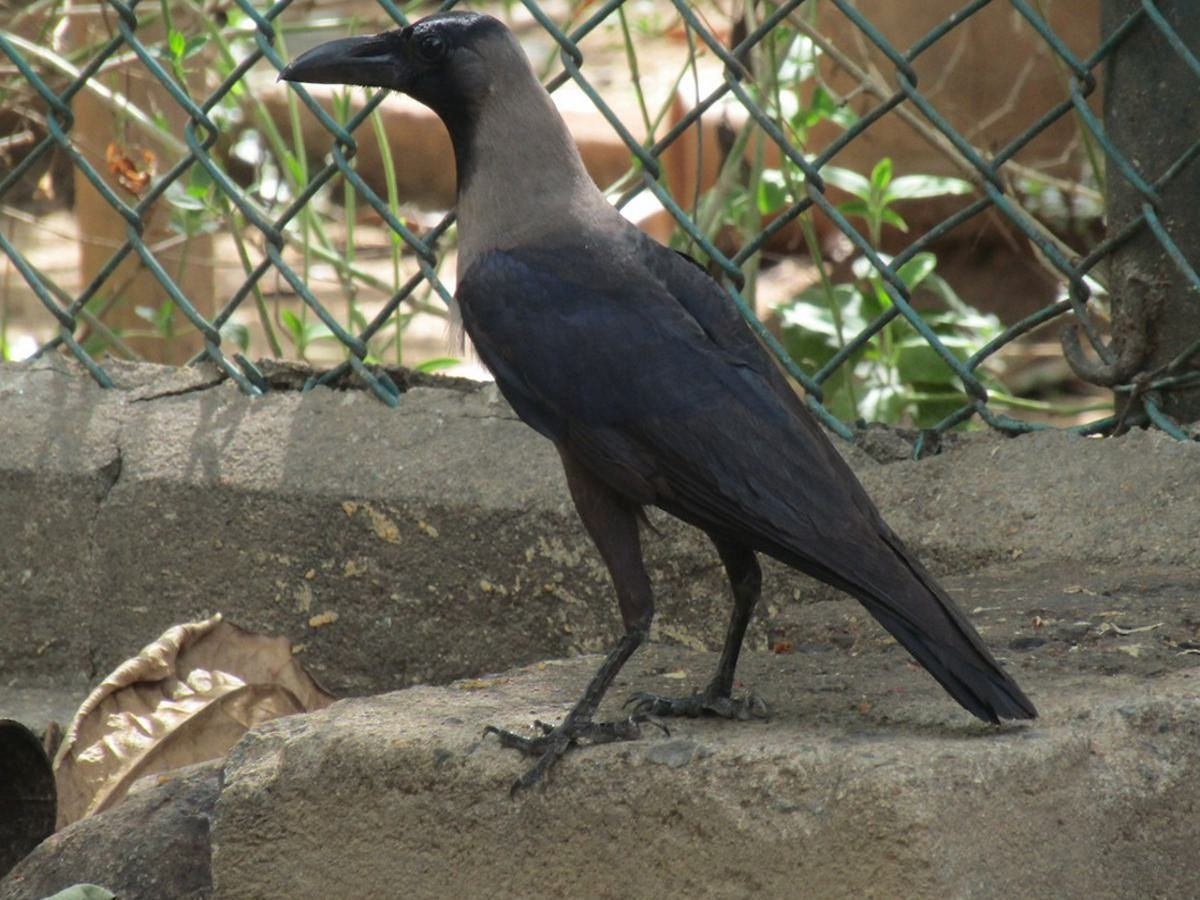crow: (290, 9, 1082, 770)
